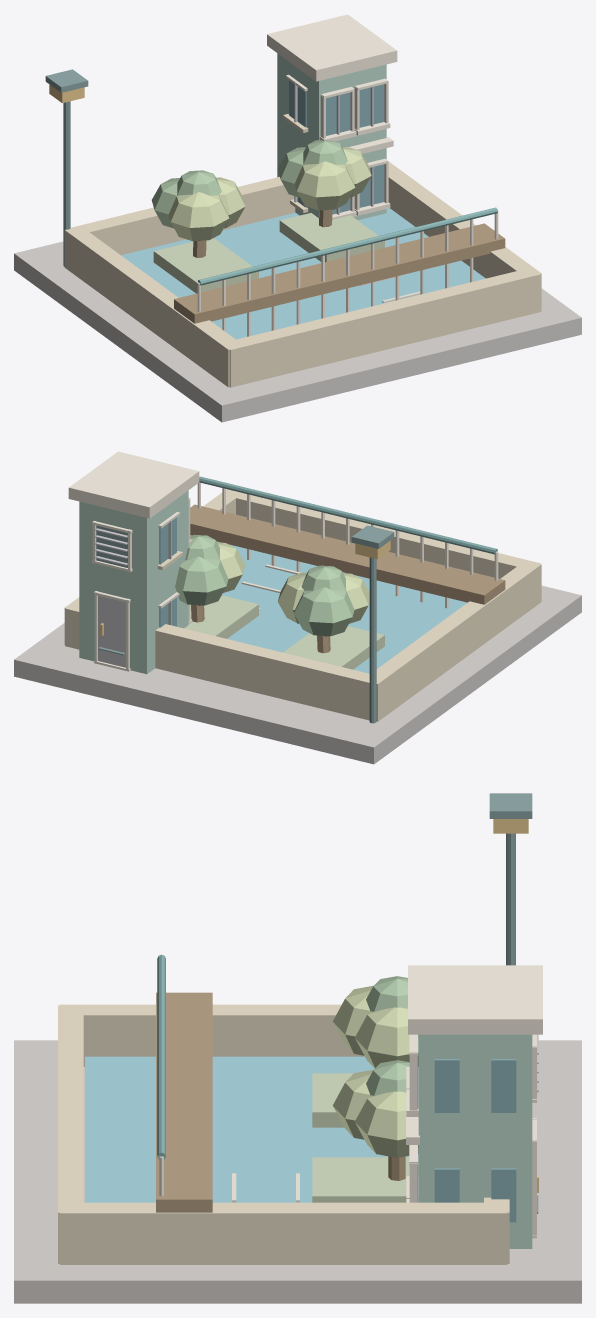
File: dot-tpl-water.glb
The picture shows the model from 3 angles, top to bottom: view 1: azimuth 30°, elevation 25°; view 2: azimuth 150°, elevation 25°; view 3: azimuth 270°, elevation 25°; orthographic projection. The views are drawn at different scales.
Parts seen in each view (by area): view 1: paving; view 2: paving; view 3: paving.
Boxes of the visible parts, x1=… form: paving: x1=14, y1=14, x2=581, y2=422; paving: x1=14, y1=451, x2=581, y2=764; paving: x1=14, y1=793, x2=581, y2=1303.
Size of the model in its own units: 4 by 2.17 by 4.
1 material, 1 textured.
